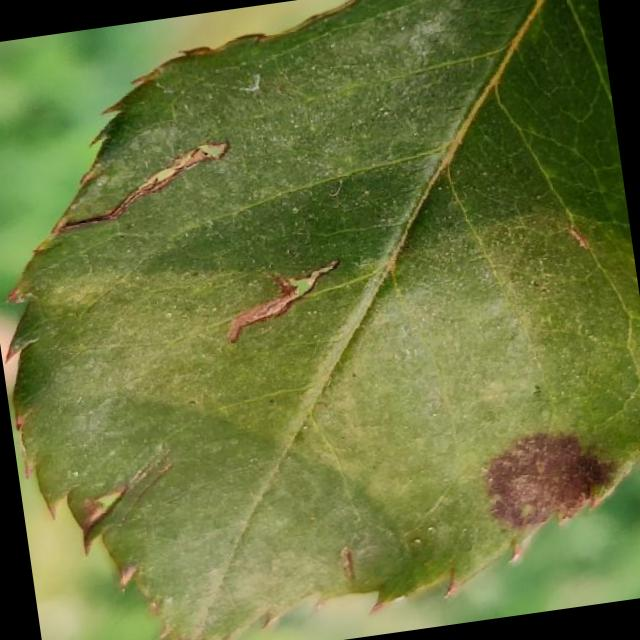Black_spot: (476, 420, 626, 540)
Rose: (0, 0, 640, 640)
